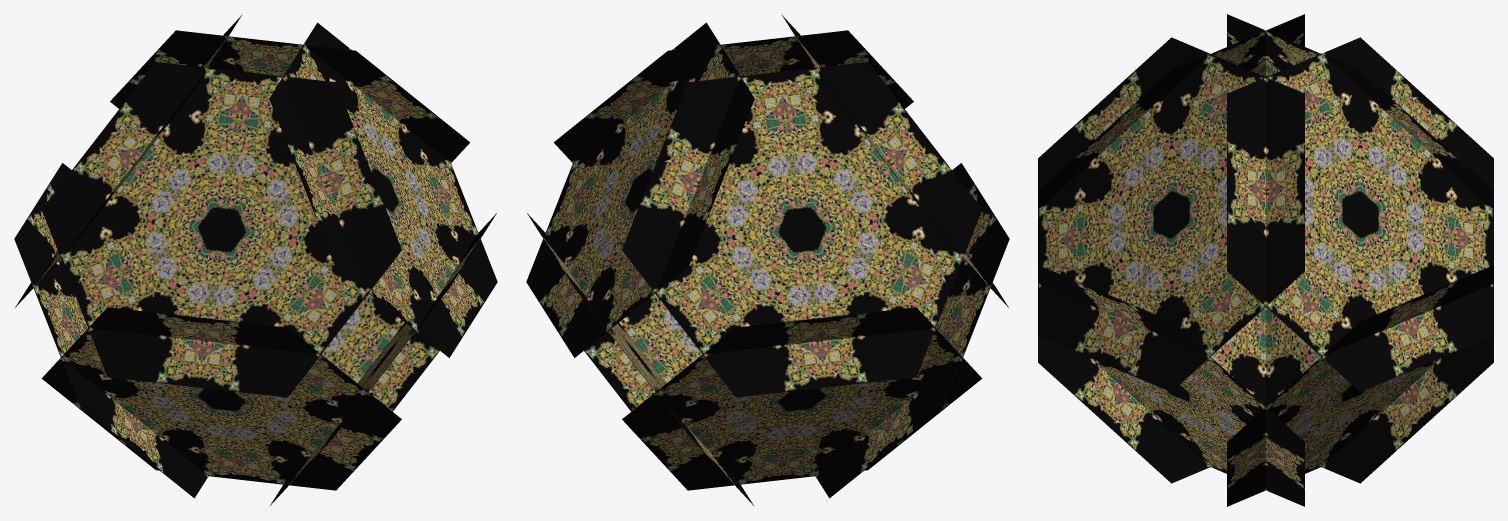
Rendered from CubitruncatedCuboctahedron4.gltf.
3 renders of one model, left to right at view 1: azimuth 30°, elevation 25°; view 2: azimuth 150°, elevation 25°; view 3: azimuth 270°, elevation 25°, orthographic.
Visible parts, largest first — view 1: CubitruncatedCuboctahedron; view 2: CubitruncatedCuboctahedron; view 3: CubitruncatedCuboctahedron.
Boxes of the visible parts, x1=… form: CubitruncatedCuboctahedron: x1=14, y1=15, x2=497, y2=505; CubitruncatedCuboctahedron: x1=526, y1=15, x2=1009, y2=505; CubitruncatedCuboctahedron: x1=1038, y1=14, x2=1493, y2=506.
Size of the model in its own units: 2.41 by 2.41 by 2.41.
Materials: 1 (1 with a texture image).
